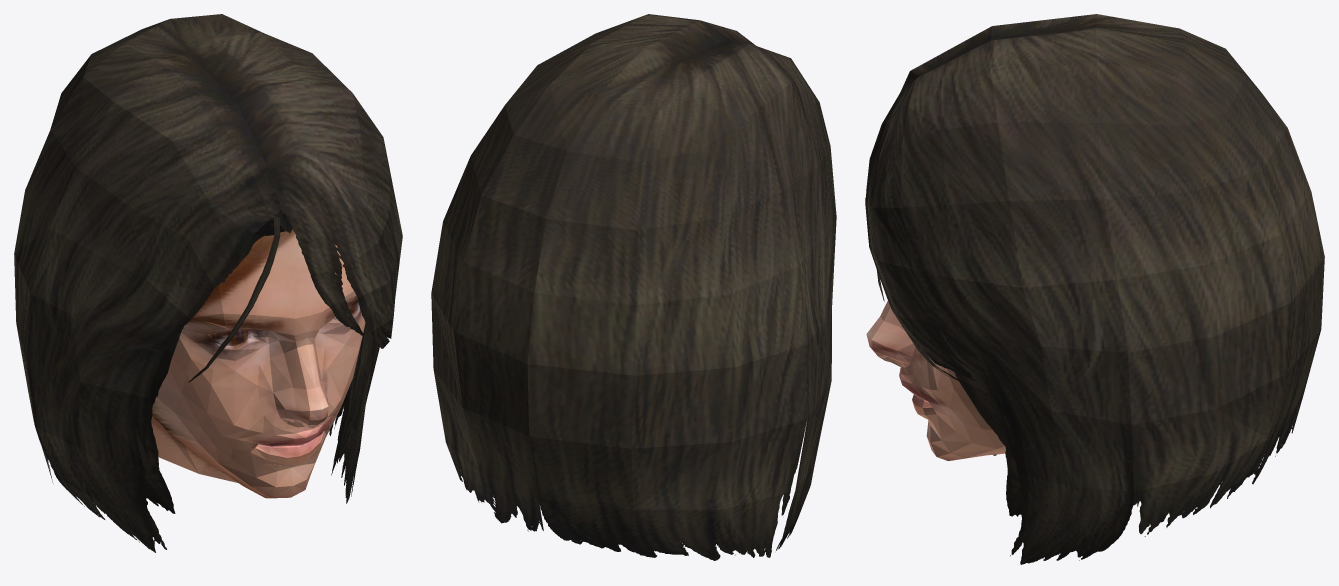
File: head_f_2.fbx
3 views of the same model, side by side, from view 1: azimuth 30°, elevation 25°; view 2: azimuth 150°, elevation 25°; view 3: azimuth 270°, elevation 25° (orthographic). The views are drawn at different scales.
Parts seen in each view (by area): view 1: pc_set_mus_hair_f_it_m_volumeperm:D_Object_1, pc_set_fgt_head_f:D_Object_1_p_1; view 2: pc_set_mus_hair_f_it_m_volumeperm:D_Object_1; view 3: pc_set_mus_hair_f_it_m_volumeperm:D_Object_1, pc_set_fgt_head_f:D_Object_1_p_1.
Boxes of the visible parts, box(x1,y1,x2,y2) form: pc_set_mus_hair_f_it_m_volumeperm:D_Object_1: box(14, 14, 402, 552); pc_set_fgt_head_f:D_Object_1_p_1: box(151, 229, 365, 498); pc_set_mus_hair_f_it_m_volumeperm:D_Object_1: box(431, 14, 836, 560); pc_set_mus_hair_f_it_m_volumeperm:D_Object_1: box(865, 14, 1324, 564); pc_set_fgt_head_f:D_Object_1_p_1: box(866, 301, 1005, 460).
Size of the model in its own units: 17.69 by 23.65 by 19.77.
2 materials, 2 textured.
